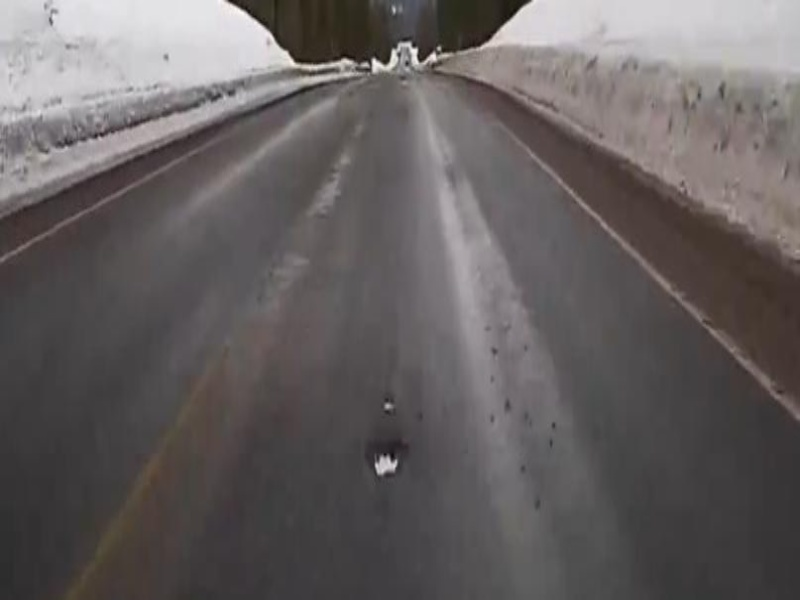pothole: (366, 437, 412, 480)
